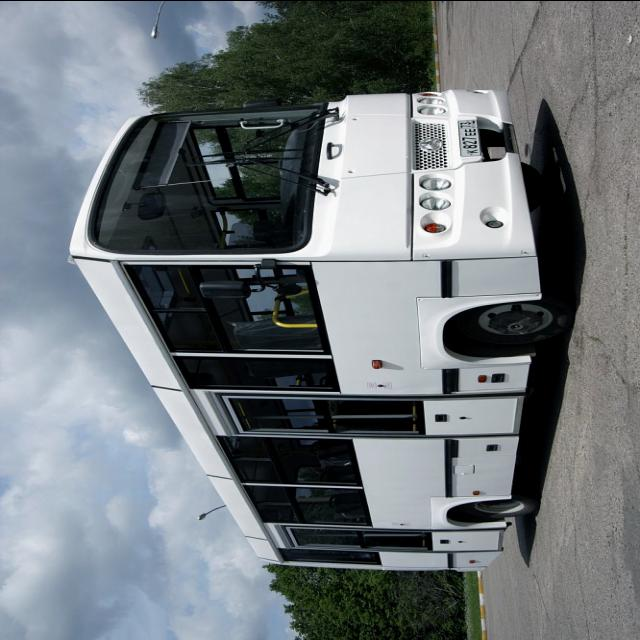bus: (62, 84, 564, 576)
